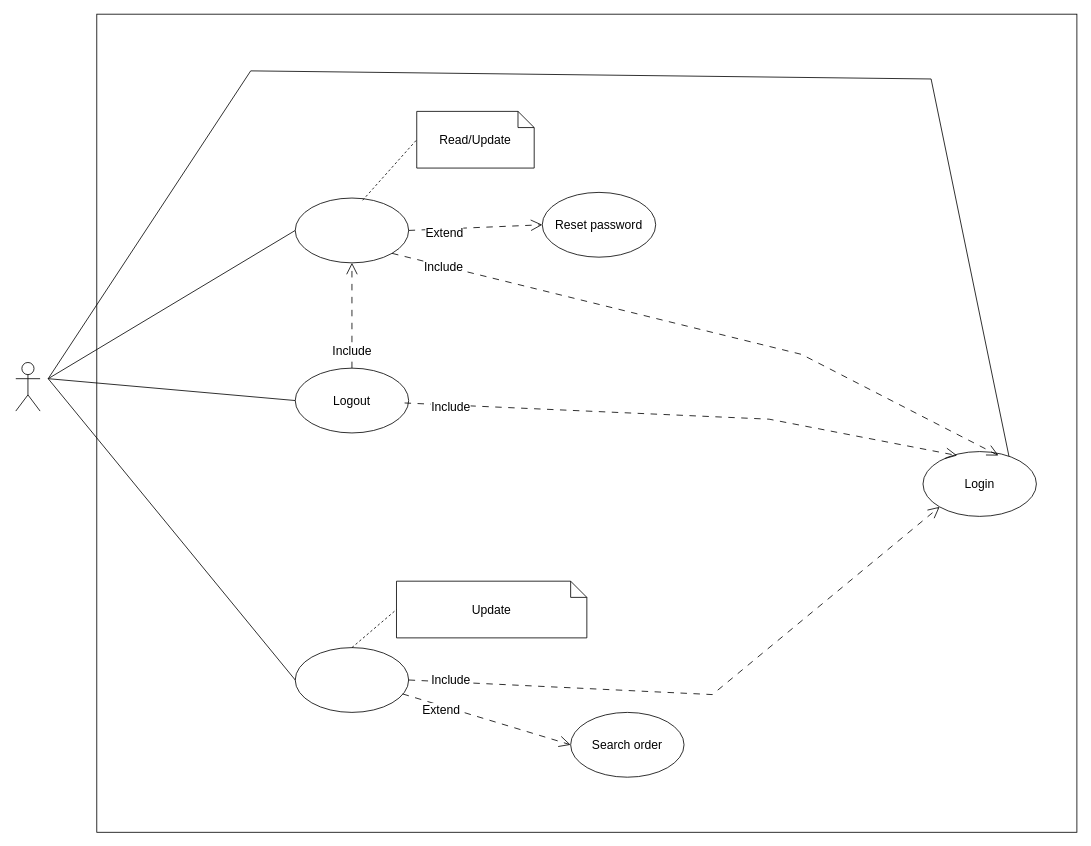
Some shapes in this 1091 by 846 pixel diagram are drawn without their labels. Each missing label, with the centre of its shape:
"Admin" belongs at [27,386].
"Order status management" belongs at [351,679].
"Profile management" belongs at [351,230].
